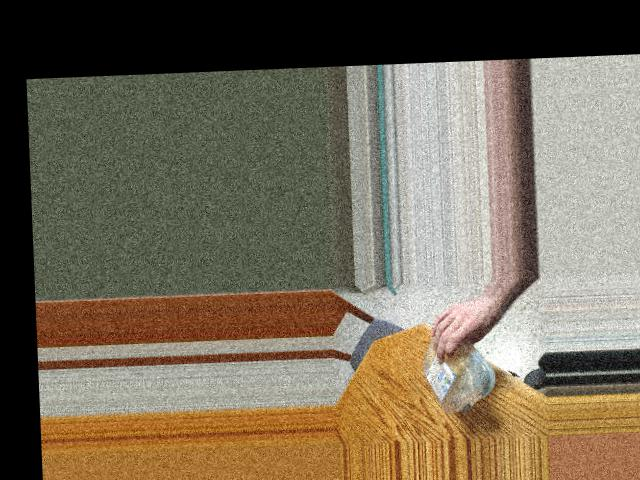cheese: (416, 320, 494, 416)
